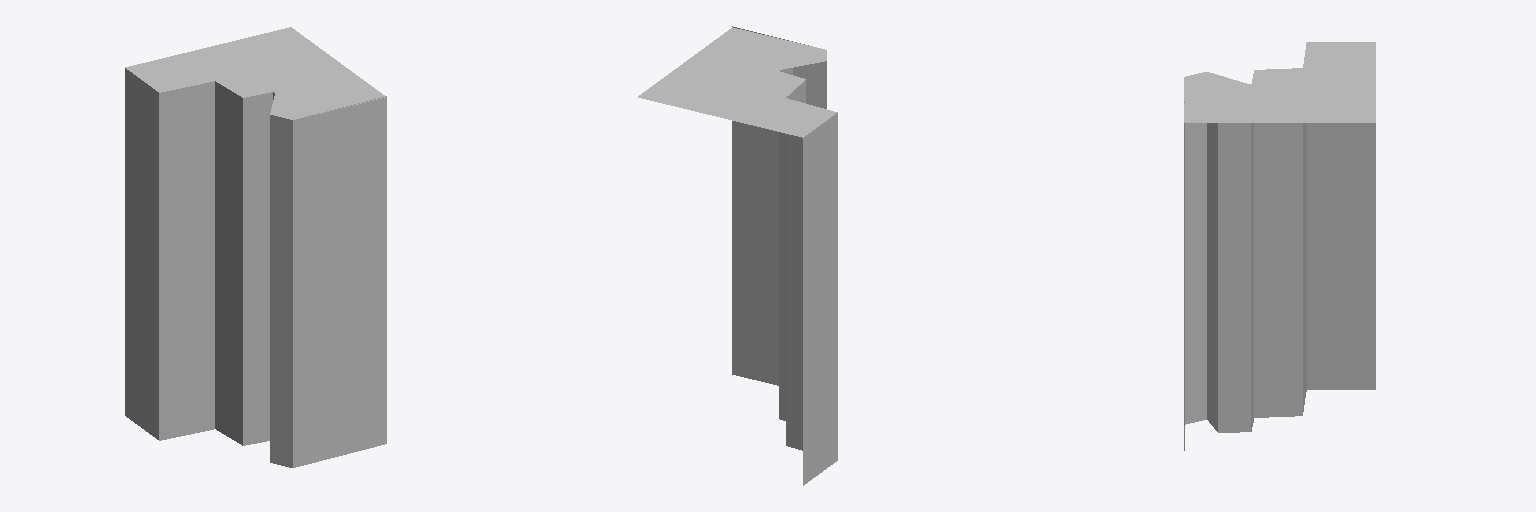
File: hole_0.obj
The picture shows the model from 3 angles: view 1: azimuth 30°, elevation 25°; view 2: azimuth 150°, elevation 25°; view 3: azimuth 270°, elevation 25°; orthographic projection.
Visible parts, largest first — view 1: Cube_Cube.016; view 2: Cube_Cube.016; view 3: Cube_Cube.016.
Part boxes in pixels (left/top/right/bottom): Cube_Cube.016: left=125, top=27, right=386, bottom=467; Cube_Cube.016: left=638, top=26, right=837, bottom=485; Cube_Cube.016: left=1184, top=42, right=1375, bottom=450.
Size of the model in its own units: 4 by 8.02 by 4.